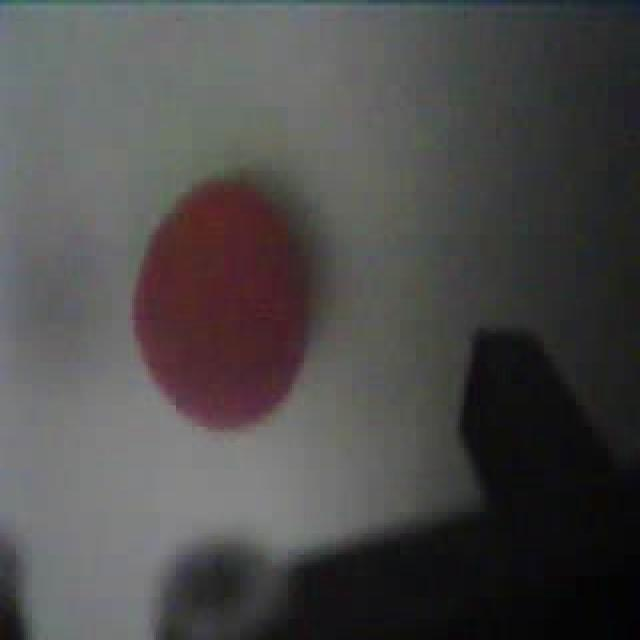red_ball: (128, 170, 316, 434)
